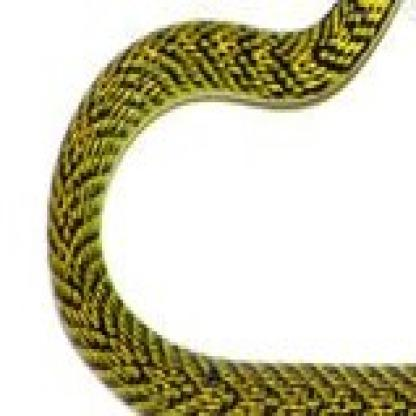Snake: (40, 0, 416, 416)
